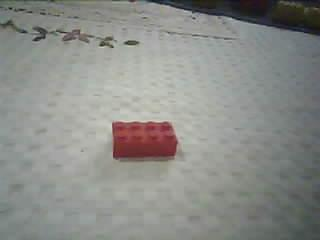lego: (110, 120, 178, 159)
